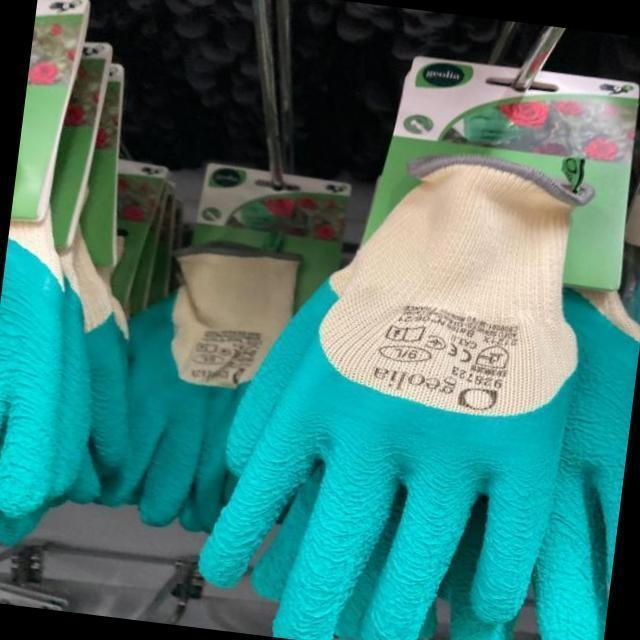Guantes: (316, 137, 586, 632)
